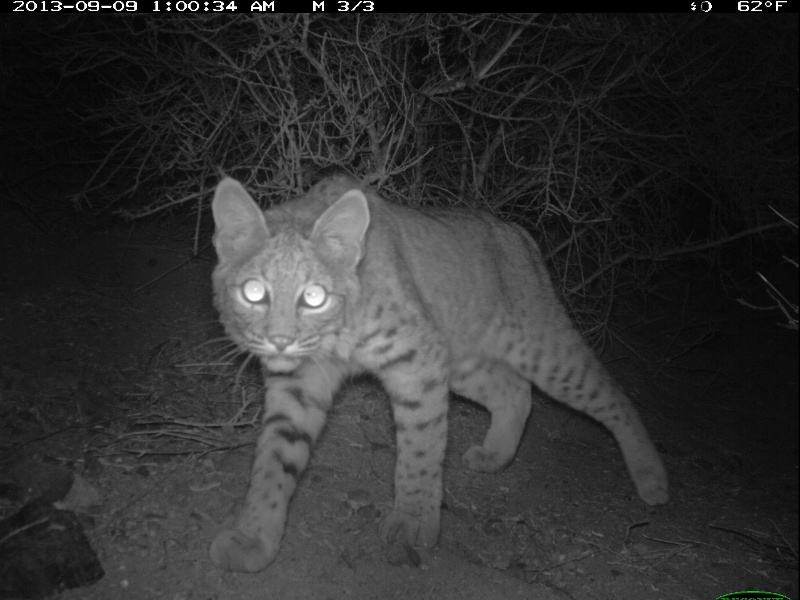cat: (212, 173, 674, 571)
